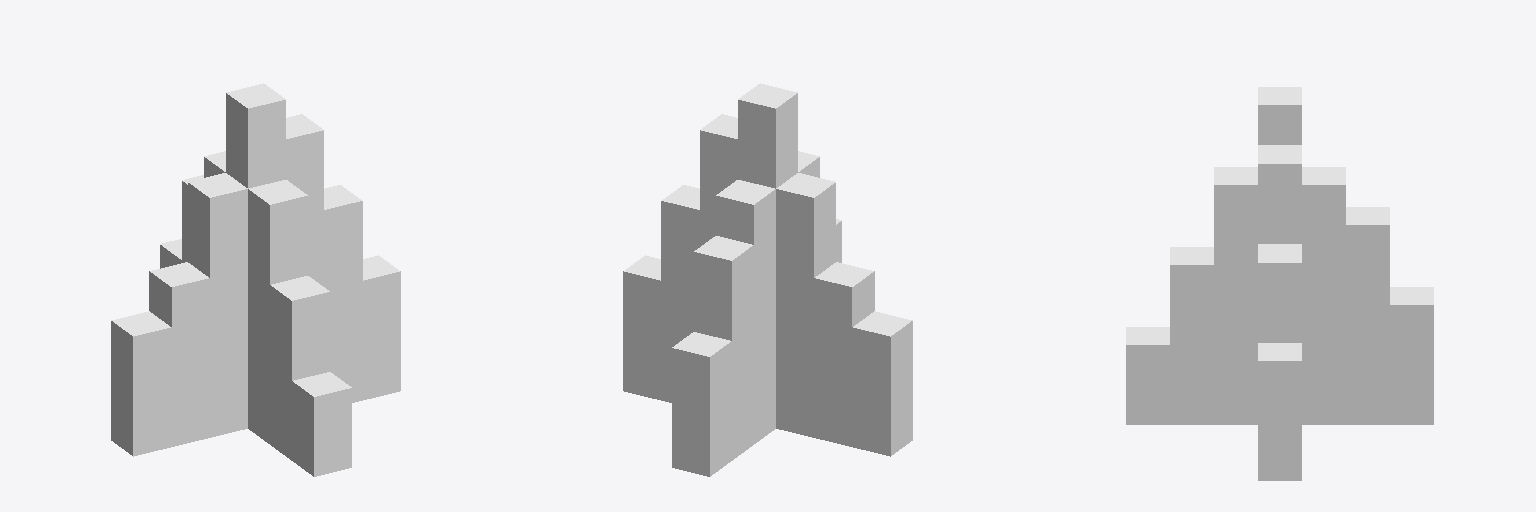
The model's file is JetFlames2.obj.
3 views of the same model, side by side, from view 1: azimuth 30°, elevation 25°; view 2: azimuth 150°, elevation 25°; view 3: azimuth 270°, elevation 25° (orthographic).
Size of the model in its own units: 7 by 8 by 7.